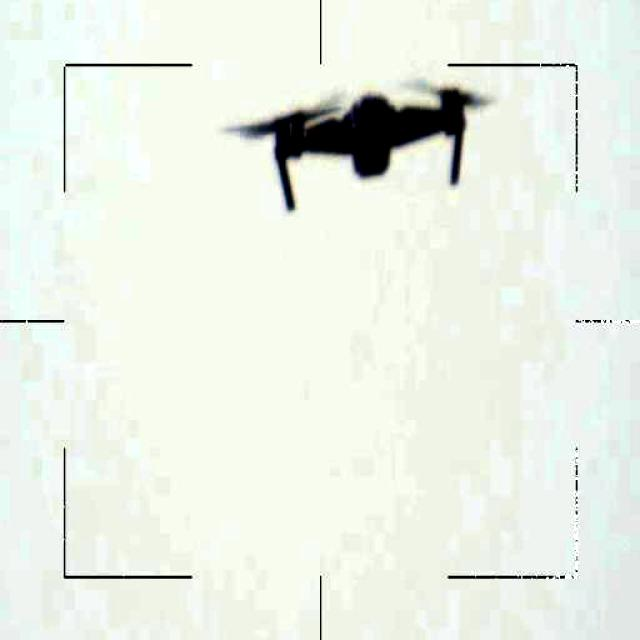bird: (220, 56, 504, 211)
